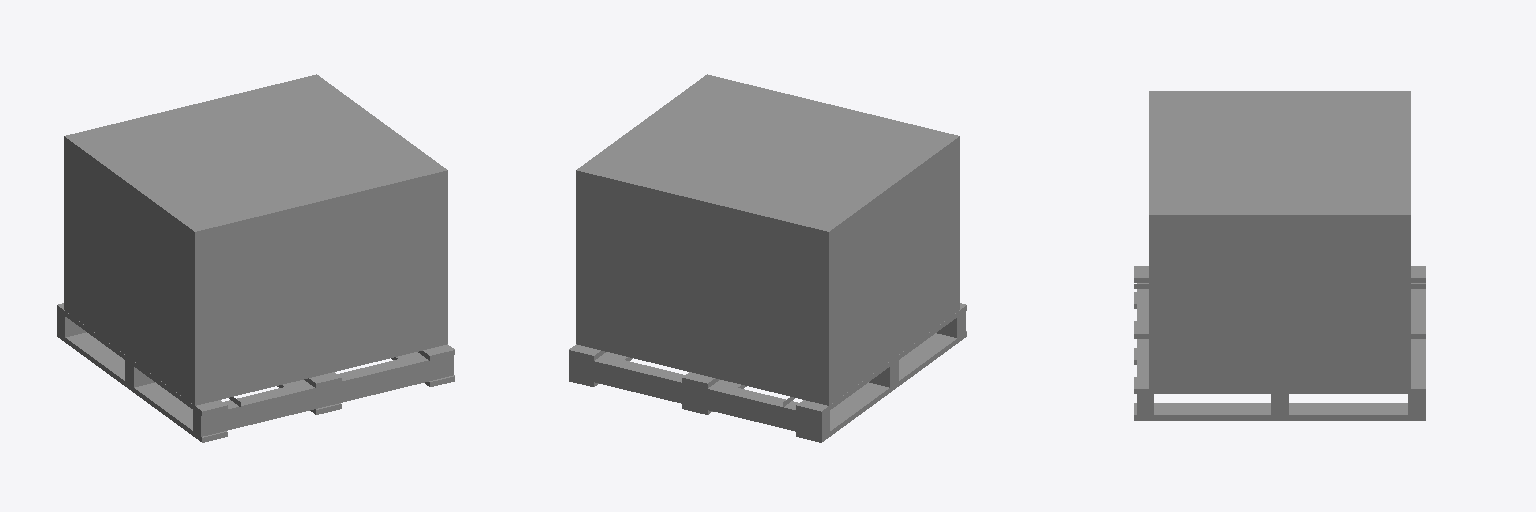
Rendered from crownpalletsmaller.obj.
3 views of the same model, side by side, from view 1: azimuth 30°, elevation 25°; view 2: azimuth 150°, elevation 25°; view 3: azimuth 270°, elevation 25° (orthographic).
Parts seen in each view (by area): view 1: polySurface206; view 2: polySurface206; view 3: polySurface206.
Part boxes in pixels (left/top/right/bottom): polySurface206: left=57, top=74, right=454, bottom=442; polySurface206: left=569, top=74, right=966, bottom=442; polySurface206: left=1134, top=91, right=1425, bottom=420.
Bounding box in the file's own units: 0.9862 × 0.766 × 0.9846.